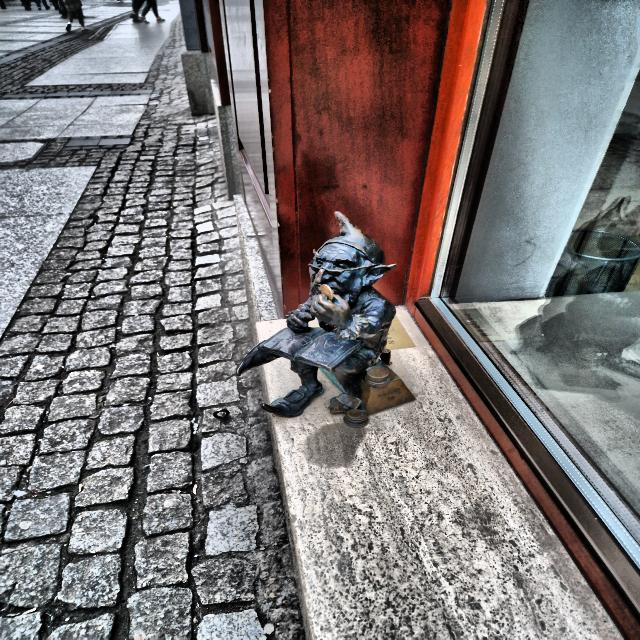Gaugan: (237, 212, 415, 428)
